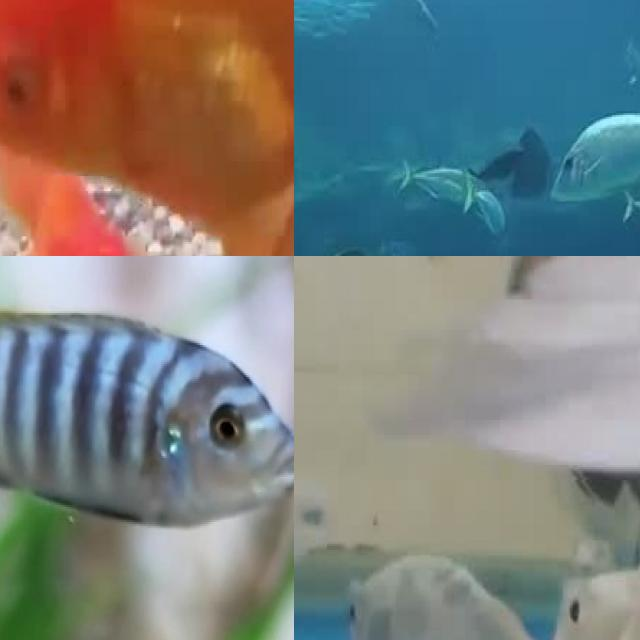fish: (0, 294, 294, 559), (0, 0, 294, 256), (328, 531, 640, 640)
